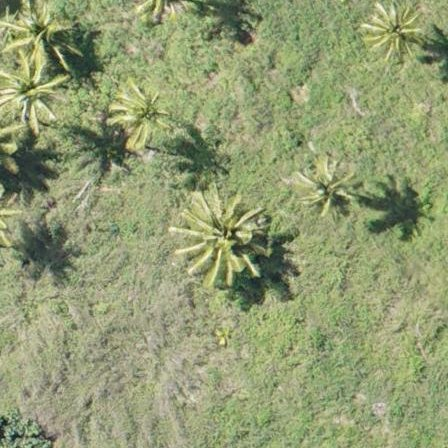palm_tree: (178, 187, 263, 277), (1, 59, 71, 127), (1, 1, 73, 64), (108, 82, 177, 144), (364, 3, 424, 57), (297, 163, 355, 213)
